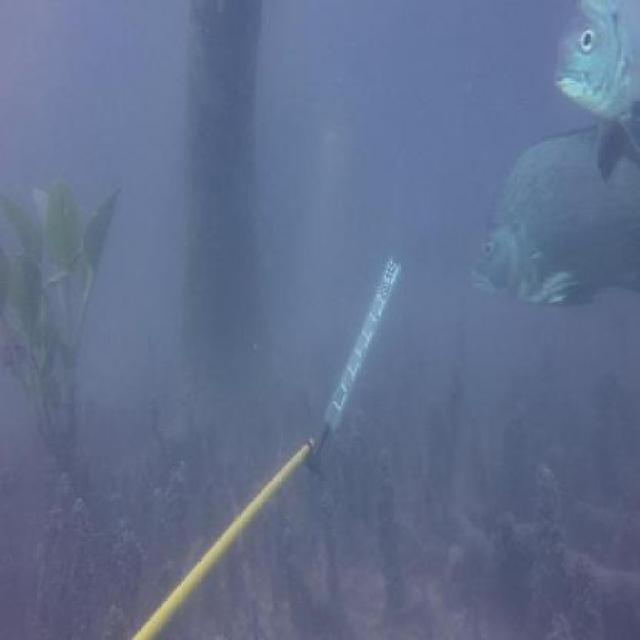acanthopagrus_palmaris: (464, 120, 640, 317), (551, 0, 640, 182)
